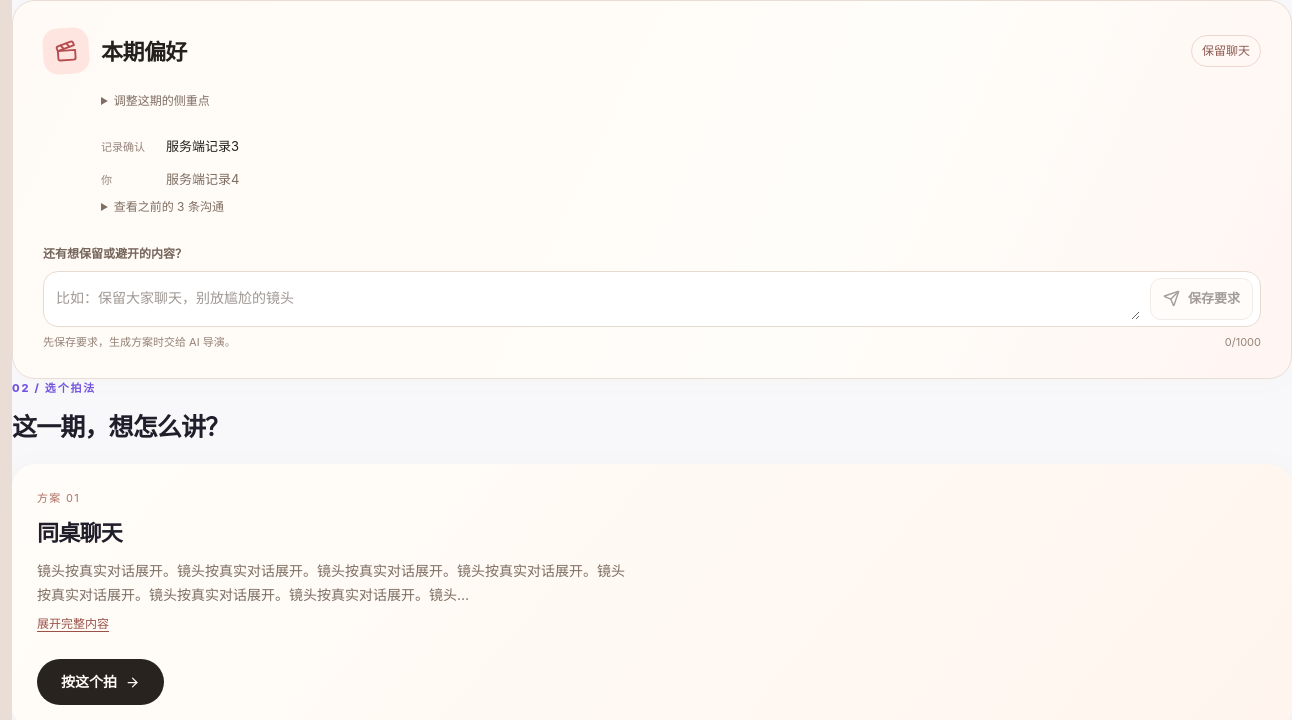
Test: persistent director guide › folds long generated summaries and earlier history while preserving their complete text
Expected: the text "服务端记录0" is not shown
Expected: the text "服务端记录3" is shown, [166,135,239,158]
Click the button with aria-label "展开方案1完整说明".
click(73, 624)  # box [37,607,109,641]
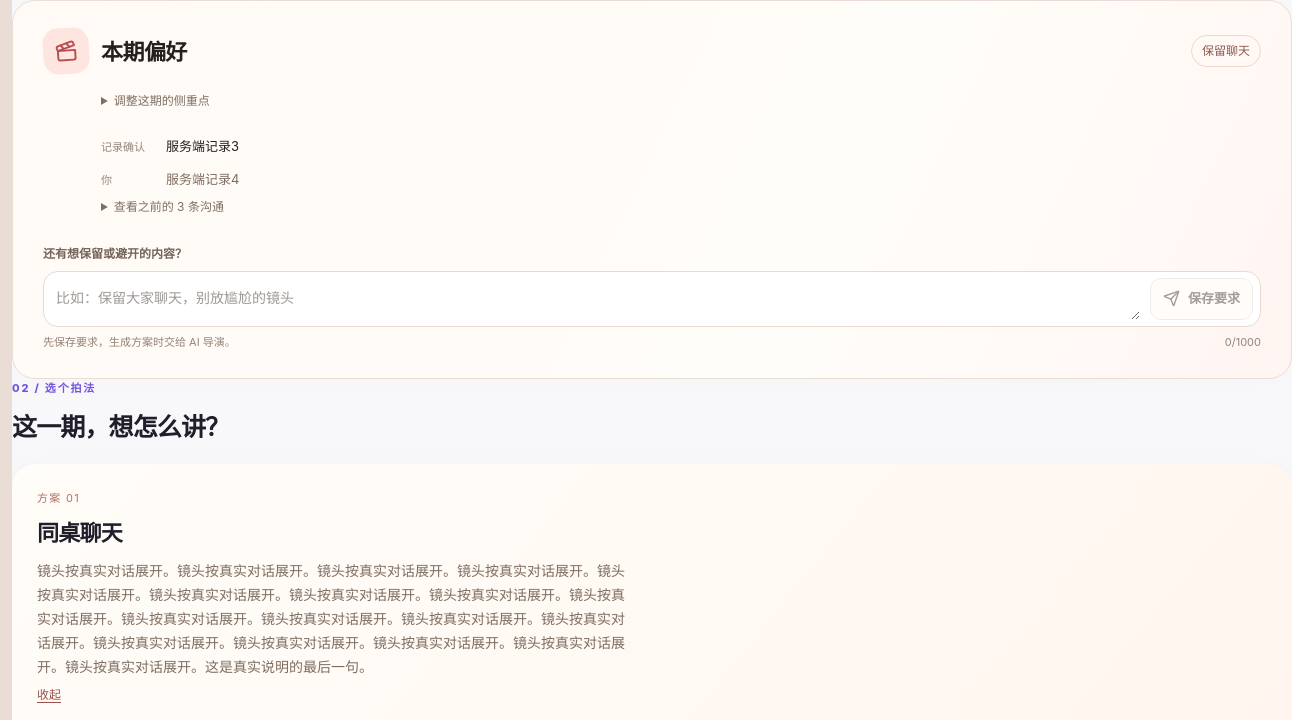
Click the heading "查看之前的 3 条沟通".
click(169, 207)  # box [114,199,224,214]
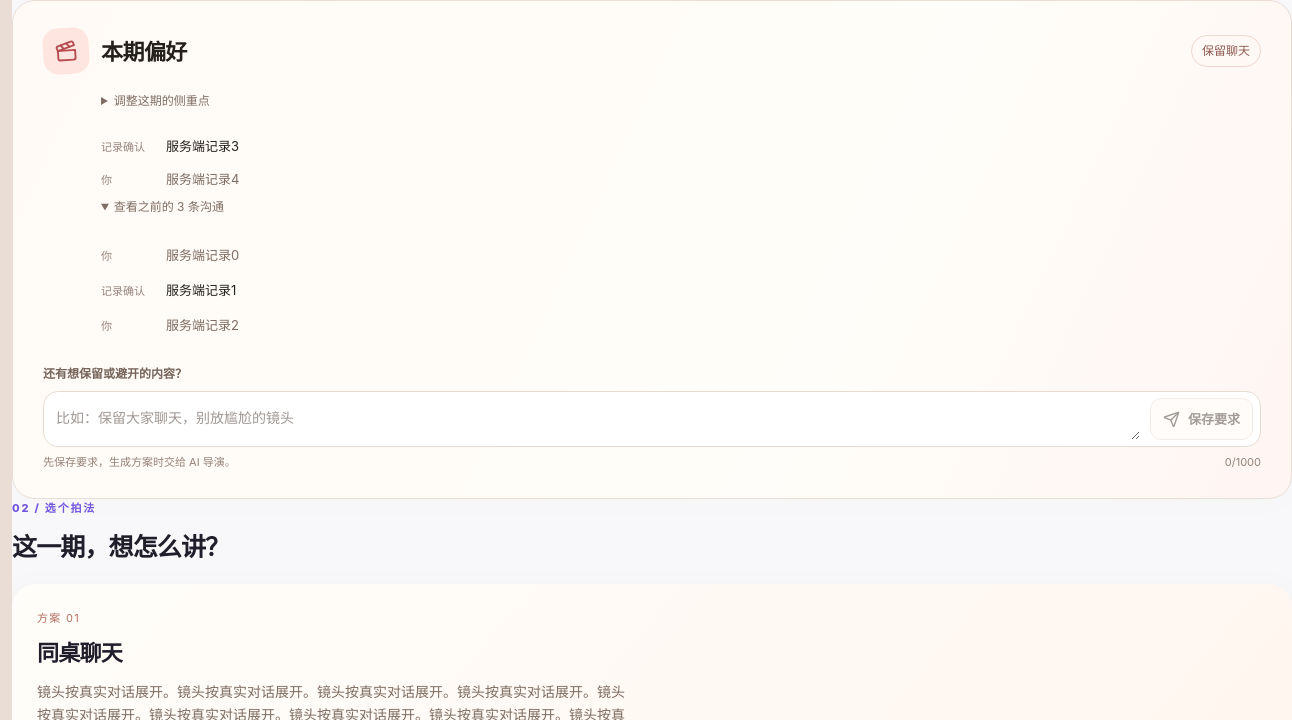
Result: the text "服务端记录0" is shown at [166,244,239,267]
